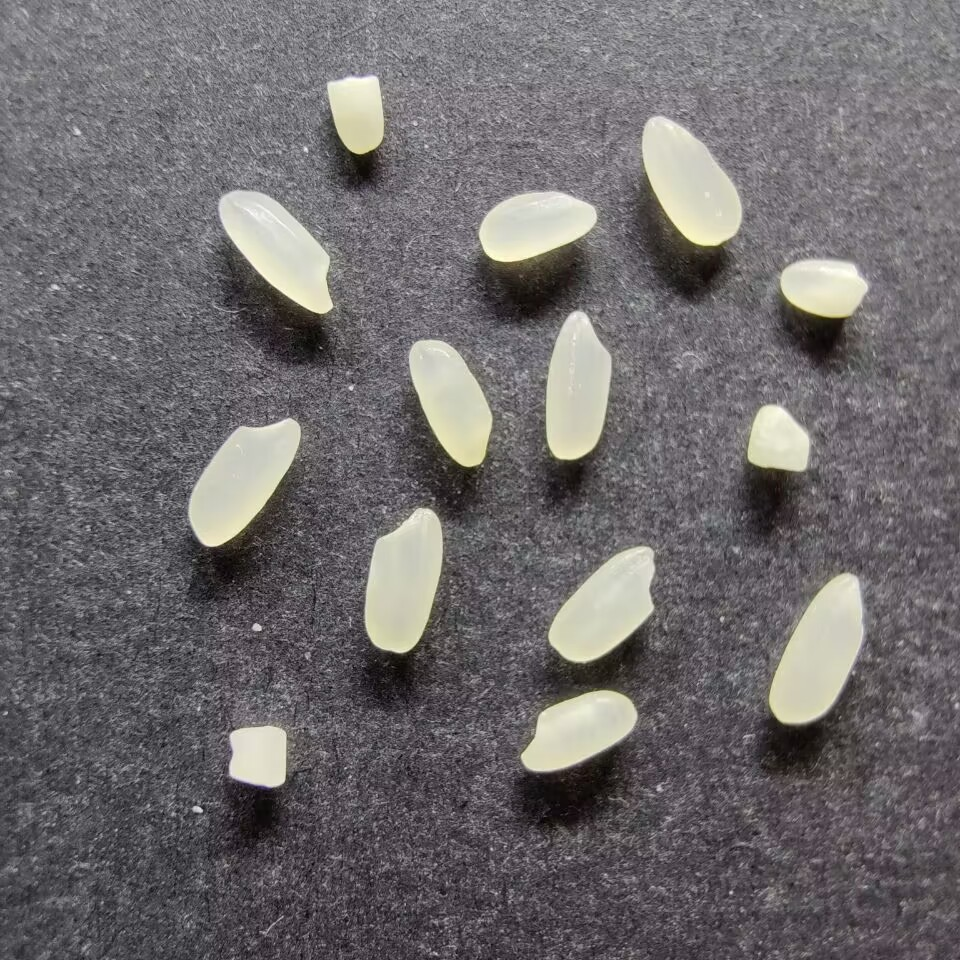broken: (779, 257, 868, 318), (322, 75, 387, 155), (745, 404, 812, 472), (226, 724, 290, 790)
rice: (186, 416, 302, 548), (216, 189, 334, 318), (767, 570, 864, 725), (639, 114, 743, 247), (546, 543, 657, 664), (362, 505, 444, 654), (407, 339, 493, 468), (542, 309, 612, 461), (519, 689, 638, 773), (478, 190, 597, 263)
